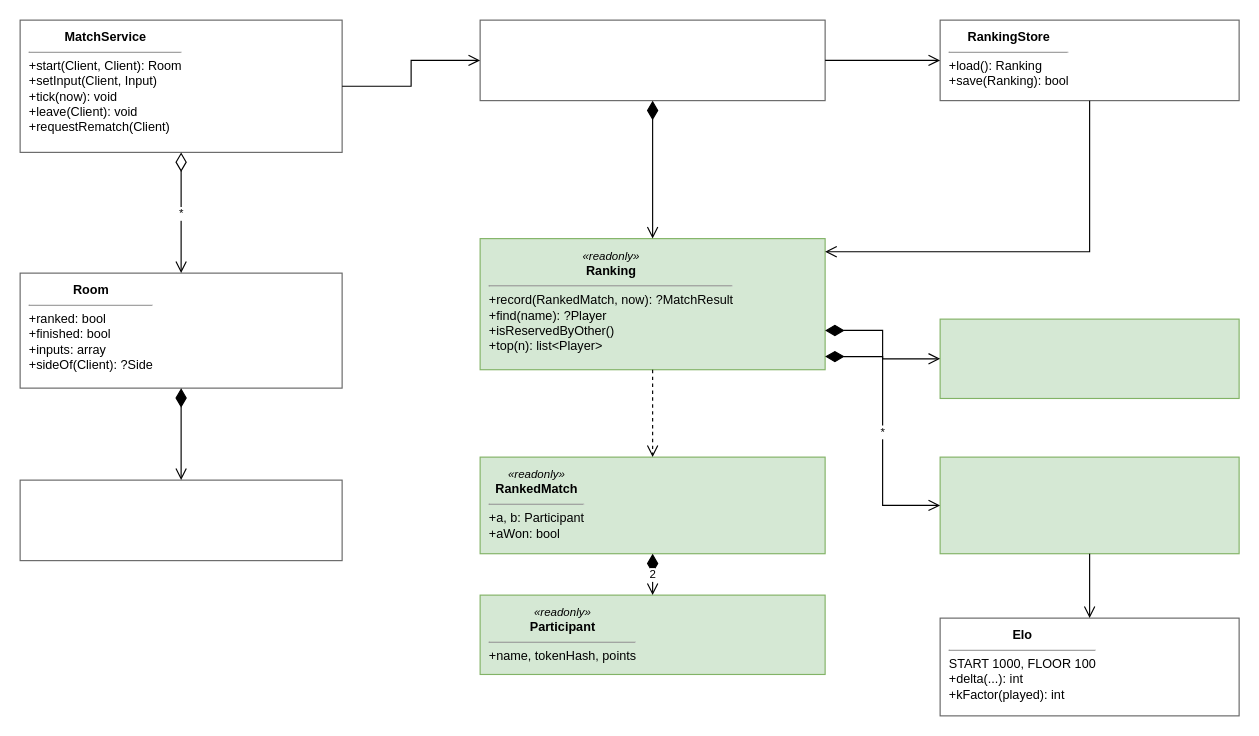
Some shapes in this 1259 by 736 pixel diagram are drawn without their labels. Here are the shapes that lost their labels. From the top down, the box of each, then its label:
(479, 19, 825, 101): RankingBook +ranking: Ranking +settle(RankedMatch): ?MatchResult
(939, 318, 1239, 398): «readonly» PairLimiter +meet(a, b, now): Meeting
(19, 479, 342, 561): Game (Gloop\\Engine) +step(Input, Input)
(939, 456, 1239, 554): «readonly» Player +rating, played, wins, losses +afterMatch(...): Player
